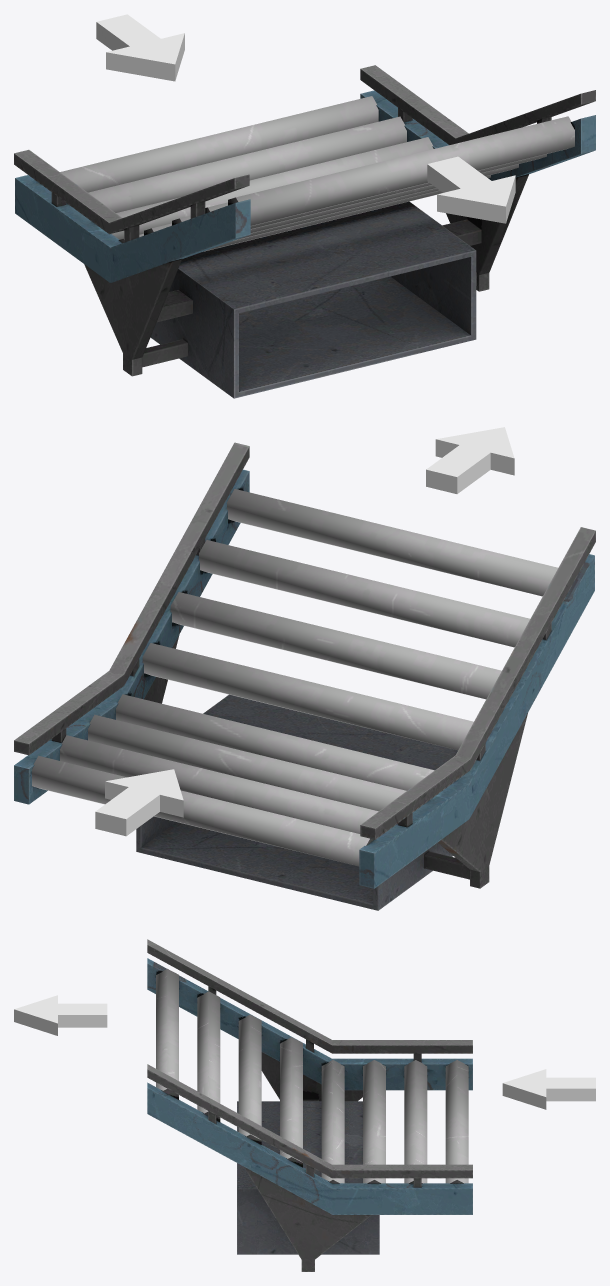
Rendered from RollerLedge.glb.
3 renders of one model, top to bottom at view 1: azimuth 30°, elevation 25°; view 2: azimuth 150°, elevation 25°; view 3: azimuth 270°, elevation 25°, orthographic. The views are drawn at different scales.
Parts seen in each view (by area): view 1: RollerLedge, ghostarrow (1), ghostarrow; view 2: RollerLedge, ghostarrow, ghostarrow (1); view 3: RollerLedge, ghostarrow (1), ghostarrow.
Boxes of the visible parts, x1=… form: RollerLedge: x1=14, y1=65, x2=595, y2=398; ghostarrow (1): x1=96, y1=14, x2=184, y2=81; ghostarrow: x1=427, y1=156, x2=515, y2=223; RollerLedge: x1=14, y1=442, x2=595, y2=910; ghostarrow: x1=426, y1=427, x2=514, y2=493; ghostarrow (1): x1=95, y1=769, x2=183, y2=836; RollerLedge: x1=147, y1=939, x2=472, y2=1271; ghostarrow (1): x1=502, y1=1069, x2=595, y2=1109; ghostarrow: x1=14, y1=995, x2=107, y2=1035.
Bounding box in the file's own units: 0.9463 × 0.6996 × 1.79.
Materials: 3 (2 with a texture image).
